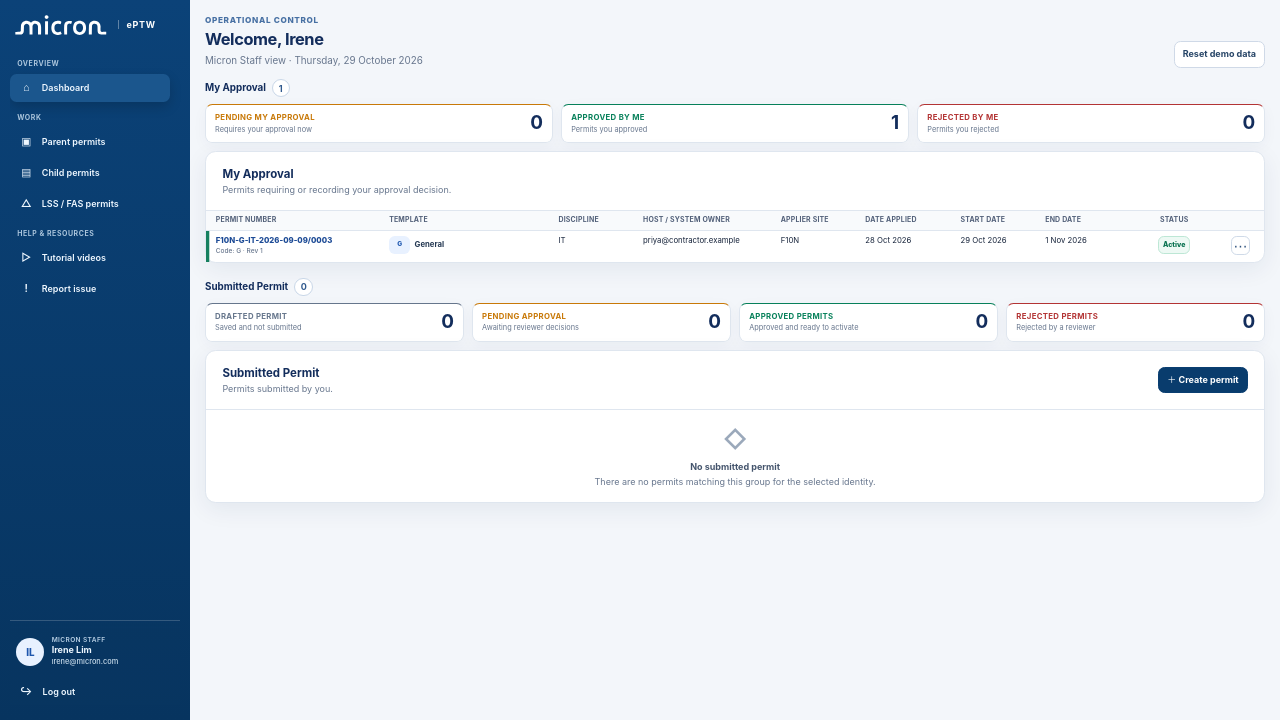
Test: application shell › moves action menus in grouped dashboard tables to the front layer
What coordinates should you click on to do the following:
click the heading named "actions for"
I would click on:
 (1241, 246)
Its box is 1231,236 -> 1250,255.
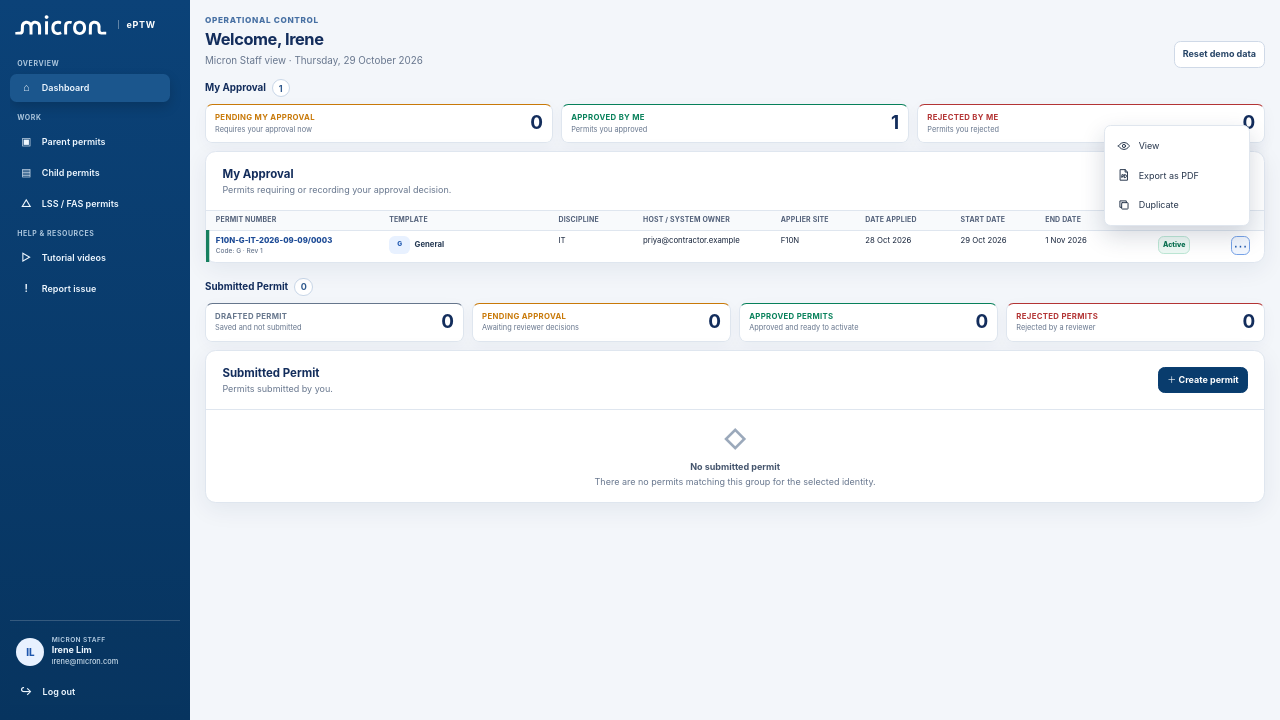
Expected: the link "View" is shown, 1116,139 -> 1160,153
